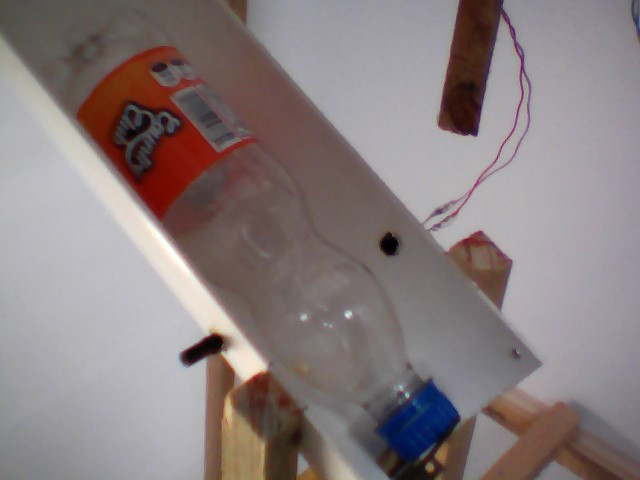plastico: (32, 1, 470, 459)
